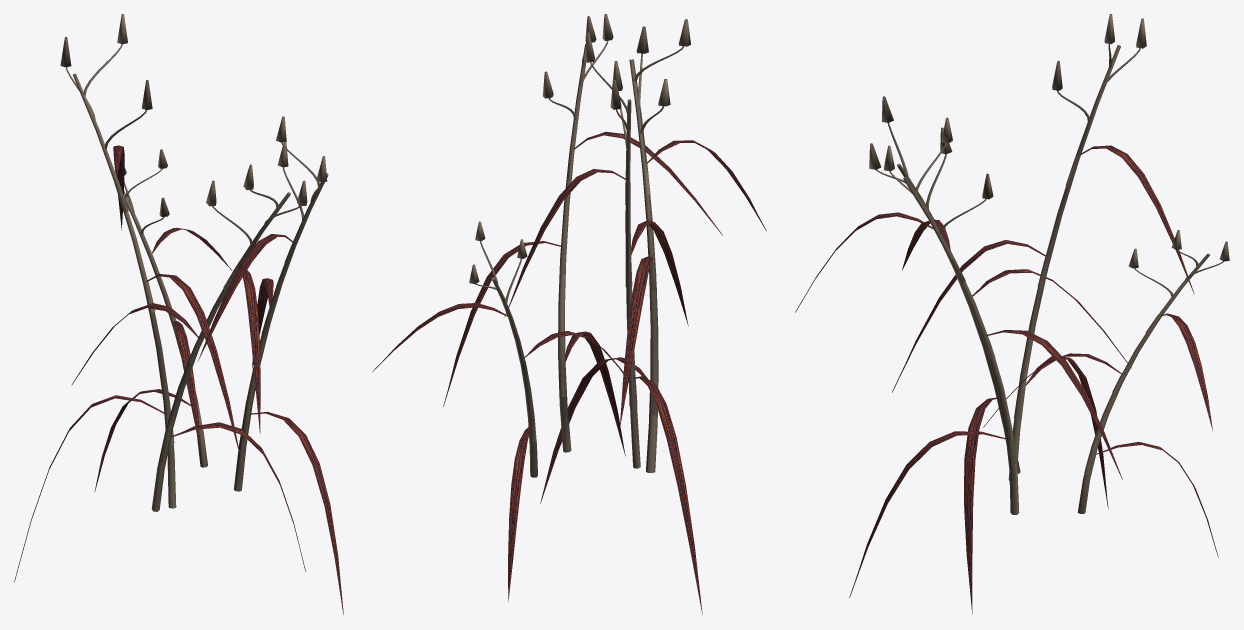
Rendered from dryshoots_08.glb.
The picture shows the model from 3 angles, left to right: view 1: azimuth 30°, elevation 25°; view 2: azimuth 150°, elevation 25°; view 3: azimuth 270°, elevation 25°; orthographic projection. The views are drawn at different scales.
Parts seen in each view (by area): view 1: export; view 2: export; view 3: export.
Part boxes in pixels (x1,y1,x2,y2): export: (14, 14, 343, 614); export: (372, 14, 766, 614); export: (795, 14, 1229, 614).
Size of the model in its own units: 0.6459 by 1.24 by 0.8873.
Materials: 2 (2 with a texture image).
